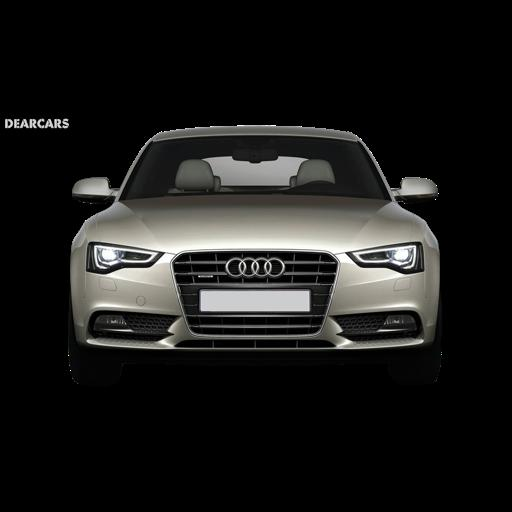sedan: (67, 125, 440, 384)
